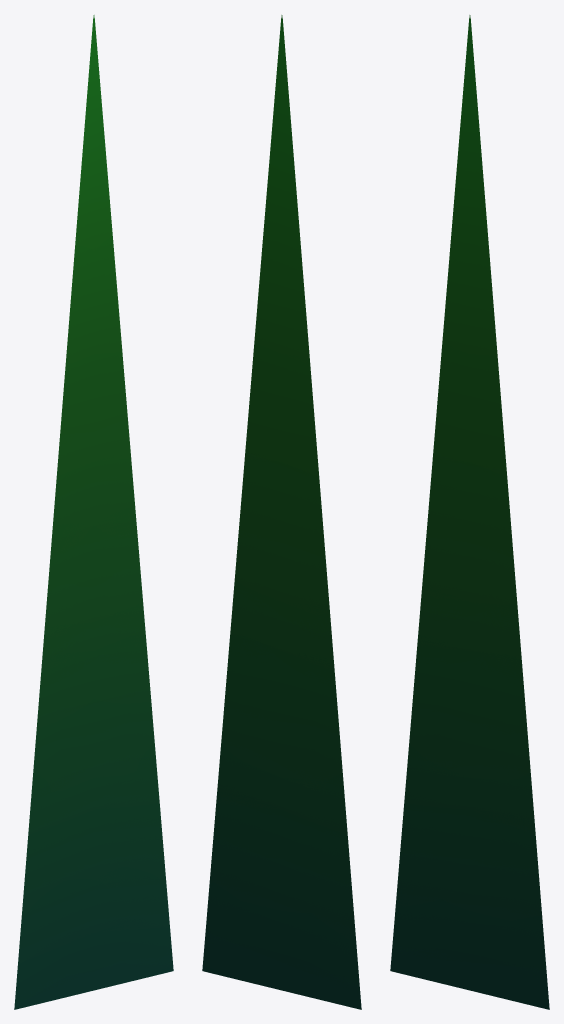
Rendered from Grass_Blade_1A.fbx.
The picture shows the model from 3 angles, left to right: view 1: azimuth 30°, elevation 25°; view 2: azimuth 150°, elevation 25°; view 3: azimuth 330°, elevation 25°; orthographic projection.
Visible parts, largest first — view 1: Grass_Blade_1A; view 2: Grass_Blade_1A; view 3: Grass_Blade_1A.
Boxes of the visible parts, x1,y1,x2,y2 form: Grass_Blade_1A: (14, 15, 173, 1009); Grass_Blade_1A: (202, 15, 361, 1009); Grass_Blade_1A: (390, 15, 549, 1009).
Bounding box in the file's own units: 0.1024 × 0.5993 × 7.25e-09.
